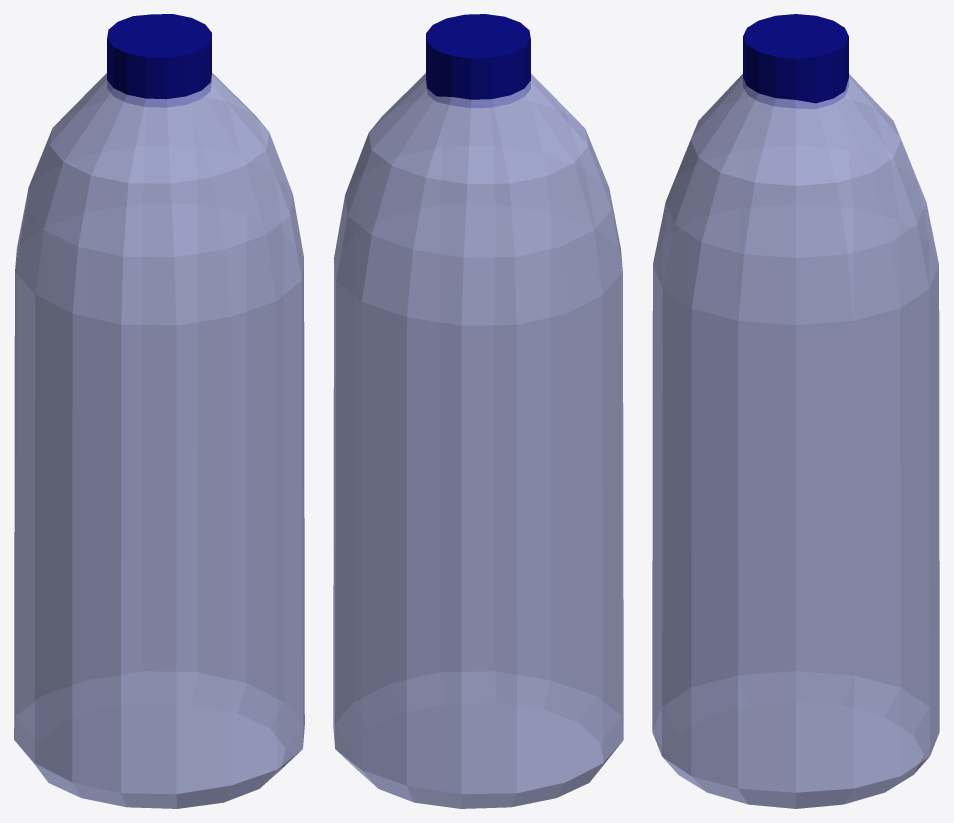
The model's file is Бутылка.fbx.
3 renders of one model, left to right at view 1: azimuth 30°, elevation 25°; view 2: azimuth 150°, elevation 25°; view 3: azimuth 270°, elevation 25°, orthographic.
Parts seen in each view (by area): view 1: Cube, Cube.001; view 2: Cube, Cube.001; view 3: Cube, Cube.001.
Part boxes in pixels (box(x1,y1,x2,y2)): Cube: box(14, 73, 304, 808); Cube.001: box(107, 14, 211, 107); Cube: box(333, 73, 623, 808); Cube.001: box(426, 14, 530, 107); Cube: box(652, 74, 939, 808); Cube.001: box(743, 14, 848, 108).
Size of the model in its own units: 174 by 480 by 174.
